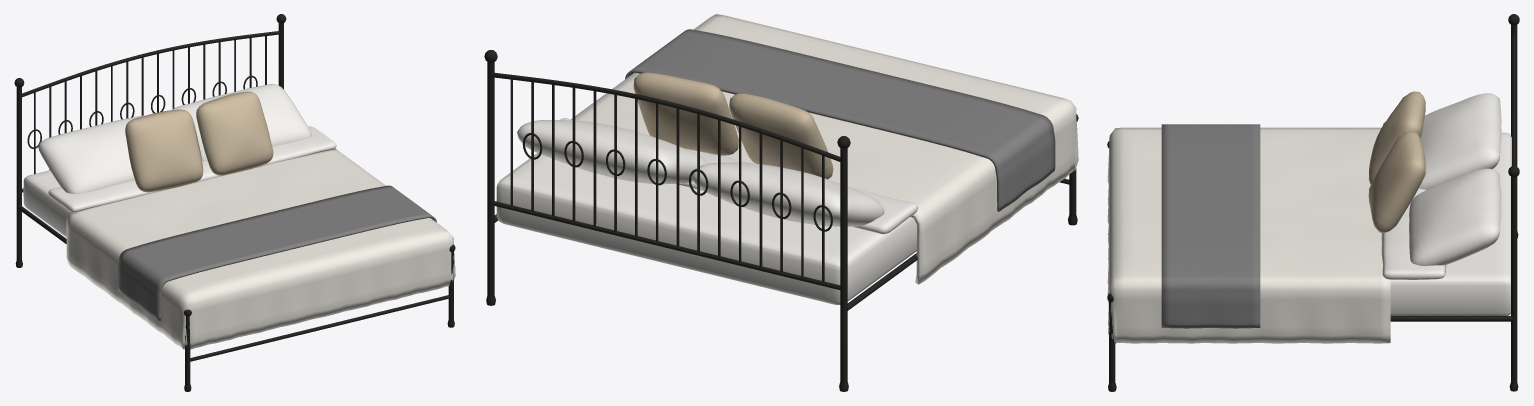
Rendered from cama_forja_180.glb.
3 views of the same model, side by side, from view 1: azimuth 30°, elevation 25°; view 2: azimuth 150°, elevation 25°; view 3: azimuth 270°, elevation 25° (orthographic). The views are drawn at different scales.
Parts seen in each view (by area): view 1: cama_forja_180; view 2: cama_forja_180; view 3: cama_forja_180.
Part boxes in pixels (bbox=[...]): cama_forja_180: bbox=[14, 14, 455, 391]; cama_forja_180: bbox=[484, 14, 1078, 391]; cama_forja_180: bbox=[1107, 14, 1519, 391].
Bounding box in the file's own units: 1.95 × 1.25 × 2.09.
Materials: 5 (4 with a texture image).
